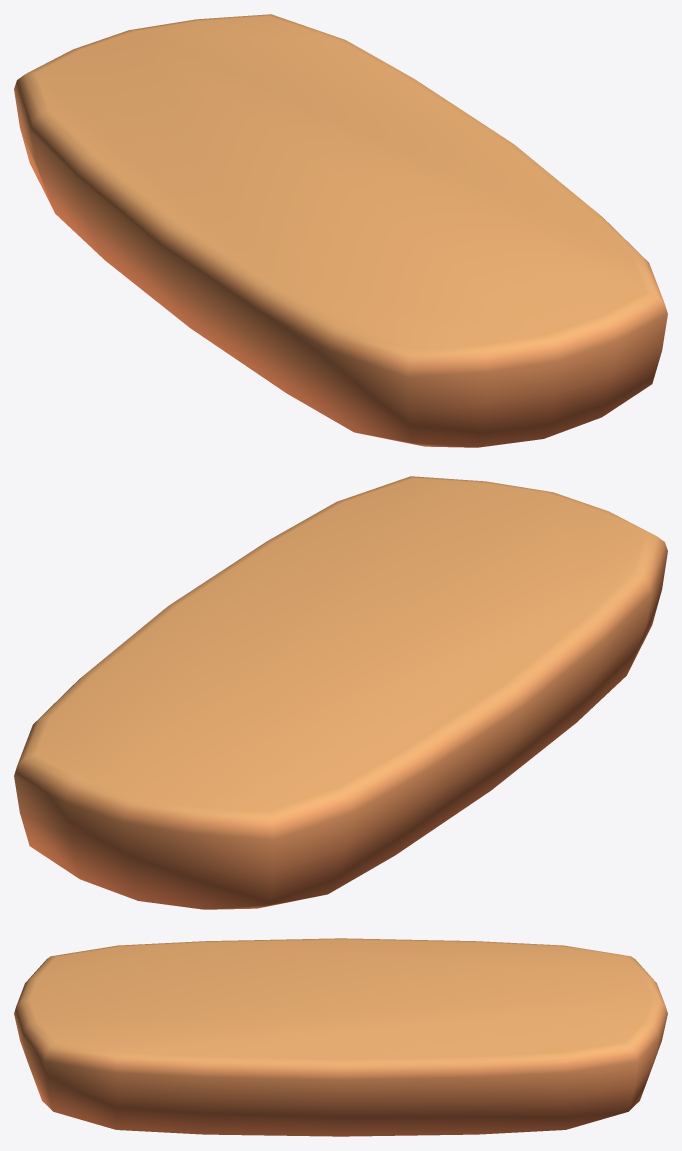
Rendered from Bread_Sandwich_Lower_V1_00.fbx.
3 renders of one model, top to bottom at view 1: azimuth 30°, elevation 25°; view 2: azimuth 150°, elevation 25°; view 3: azimuth 270°, elevation 25°, orthographic. The views are drawn at different scales.
Parts seen in each view (by area): view 1: Bread_Sandwich_Lower_V1_00; view 2: Bread_Sandwich_Lower_V1_00; view 3: Bread_Sandwich_Lower_V1_00.
Part boxes in pixels (bbox=[...]): Bread_Sandwich_Lower_V1_00: bbox=[14, 14, 667, 447]; Bread_Sandwich_Lower_V1_00: bbox=[14, 476, 667, 909]; Bread_Sandwich_Lower_V1_00: bbox=[14, 938, 667, 1136].
Size of the model in its own units: 36.61 by 14.13 by 76.16.
